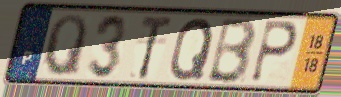3: (88, 12, 131, 81)
B: (204, 16, 259, 87)
P: (248, 19, 301, 86)
Q: (40, 12, 90, 79), (167, 16, 216, 83)
T: (136, 14, 175, 82)
